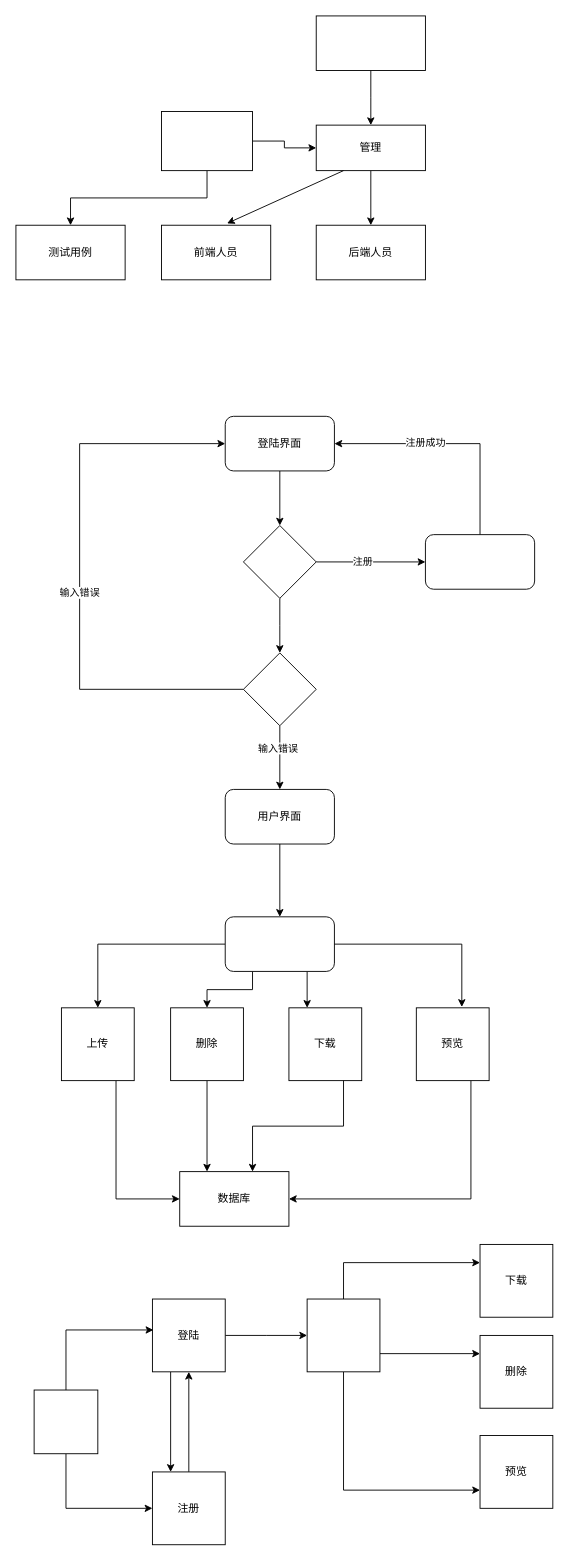
This 569x1561 diagram has some shape labels left out. The box of each missing label's shape, as (x1, y1, x2, y2) in pixels:
文件: (306, 1298, 380, 1372)
文件处理: (224, 916, 334, 971)
注册/登陆: (243, 525, 316, 598)
注册界面: (425, 534, 535, 589)
用户: (33, 1389, 98, 1454)
组长: (161, 111, 253, 171)
项目经理: (315, 15, 425, 71)
验证账号密码: (243, 652, 316, 726)
